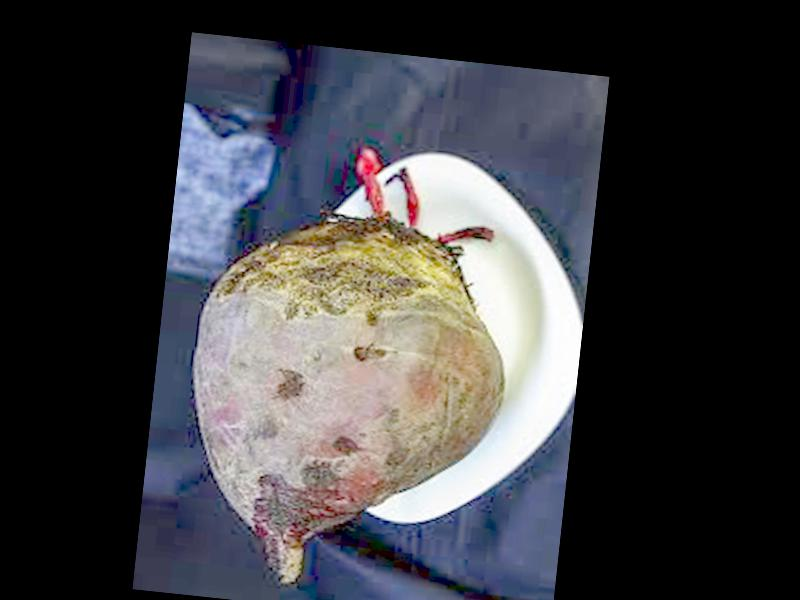Beet: (176, 133, 526, 600)
